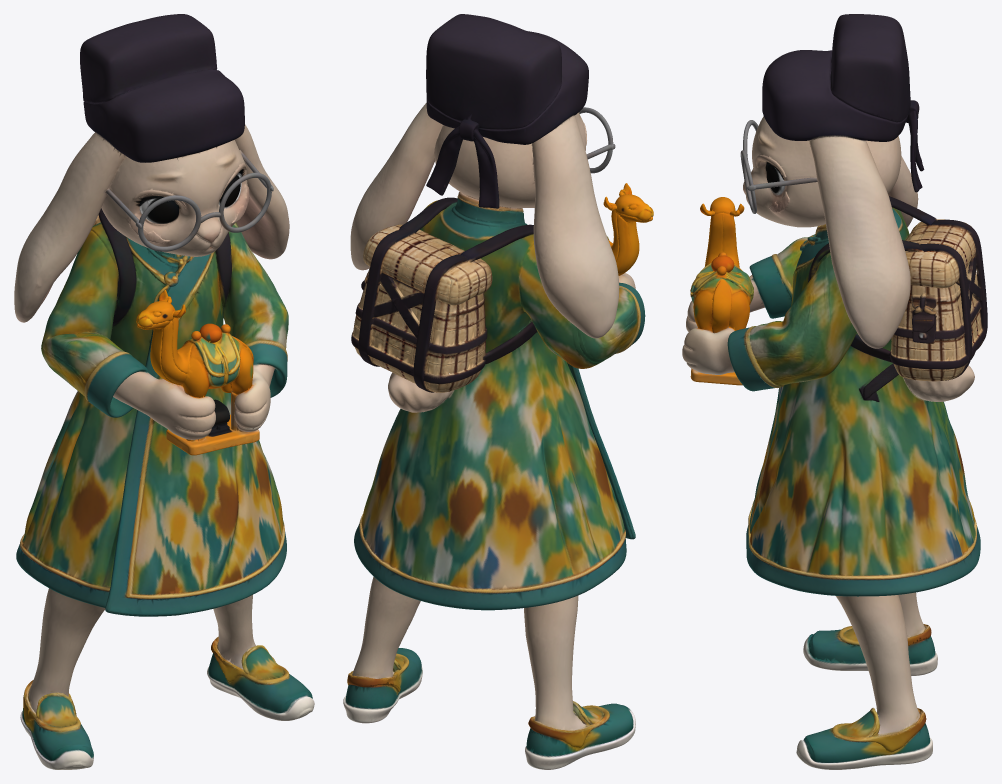
The model's file is 唐代兔.glb.
3 views of the same model, side by side, from view 1: azimuth 30°, elevation 25°; view 2: azimuth 150°, elevation 25°; view 3: azimuth 270°, elevation 25° (orthographic). The views are drawn at different scales.
Visible parts, largest first — view 1: tripo_node_c6bd29f8-27ae-44ba-a734-9ad2277fd8e1; view 2: tripo_node_c6bd29f8-27ae-44ba-a734-9ad2277fd8e1; view 3: tripo_node_c6bd29f8-27ae-44ba-a734-9ad2277fd8e1.
Part boxes in pixels (left/top/right/bottom): tripo_node_c6bd29f8-27ae-44ba-a734-9ad2277fd8e1: left=14, top=14, right=314, bottom=769; tripo_node_c6bd29f8-27ae-44ba-a734-9ad2277fd8e1: left=343, top=14, right=653, bottom=769; tripo_node_c6bd29f8-27ae-44ba-a734-9ad2277fd8e1: left=682, top=14, right=987, bottom=769.
Bounding box in the file's own units: 0.3892 × 0.9797 × 0.4.
1 material, 1 textured.
